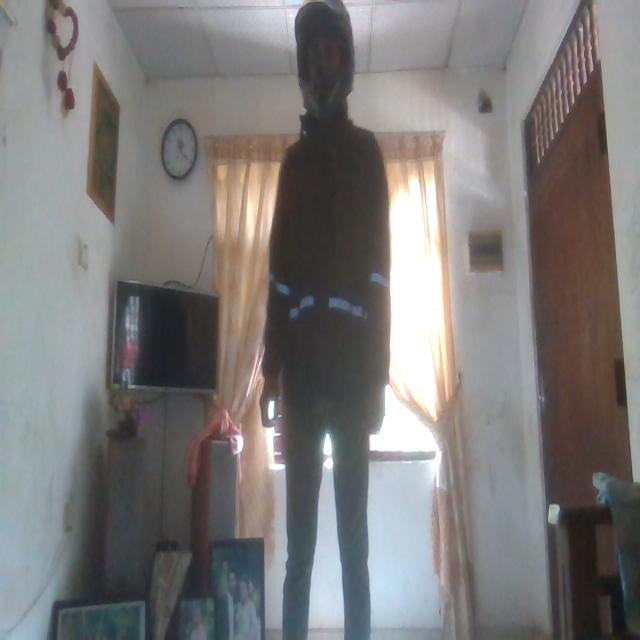Helmet_Wearer: (292, 5, 362, 135)
Jacket_Wearer: (261, 121, 394, 442)
Person: (250, 0, 401, 640)
